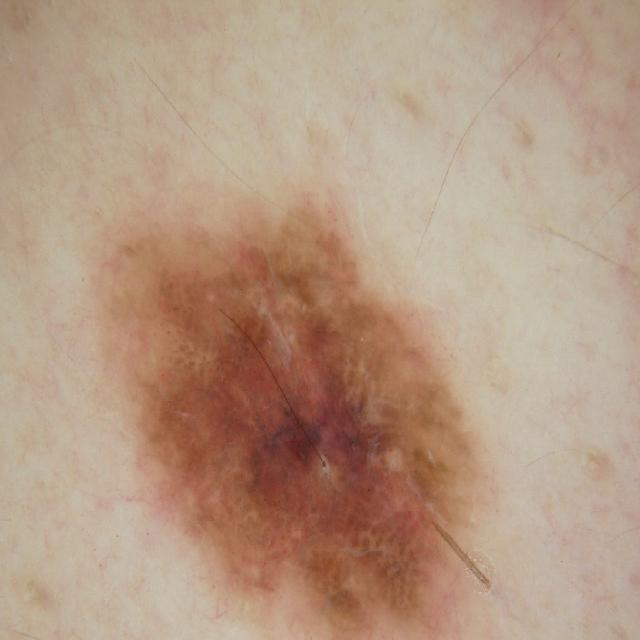Melanoma: (108, 175, 492, 640)
